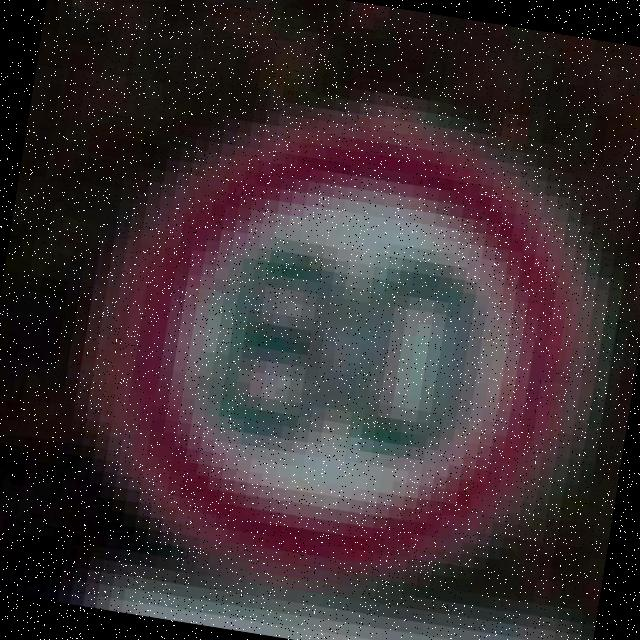Ograniczenie predkosci do 80: (80, 80, 610, 606)
